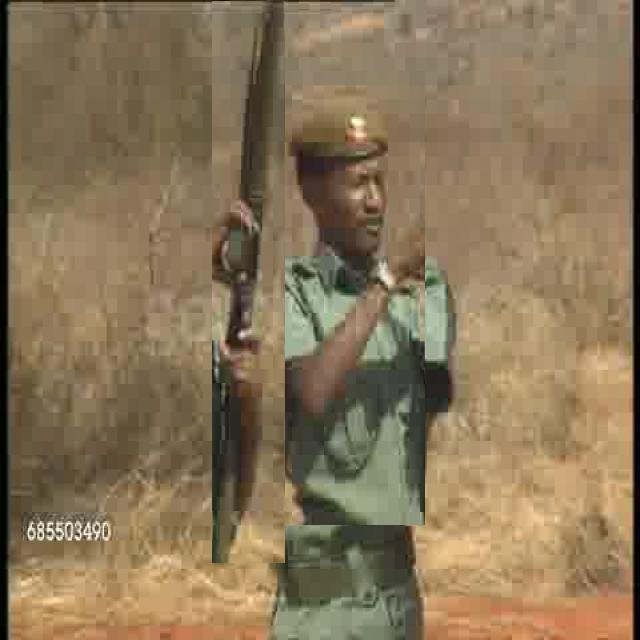poacher: (283, 71, 425, 525)
weapon: (212, 1, 285, 564)
